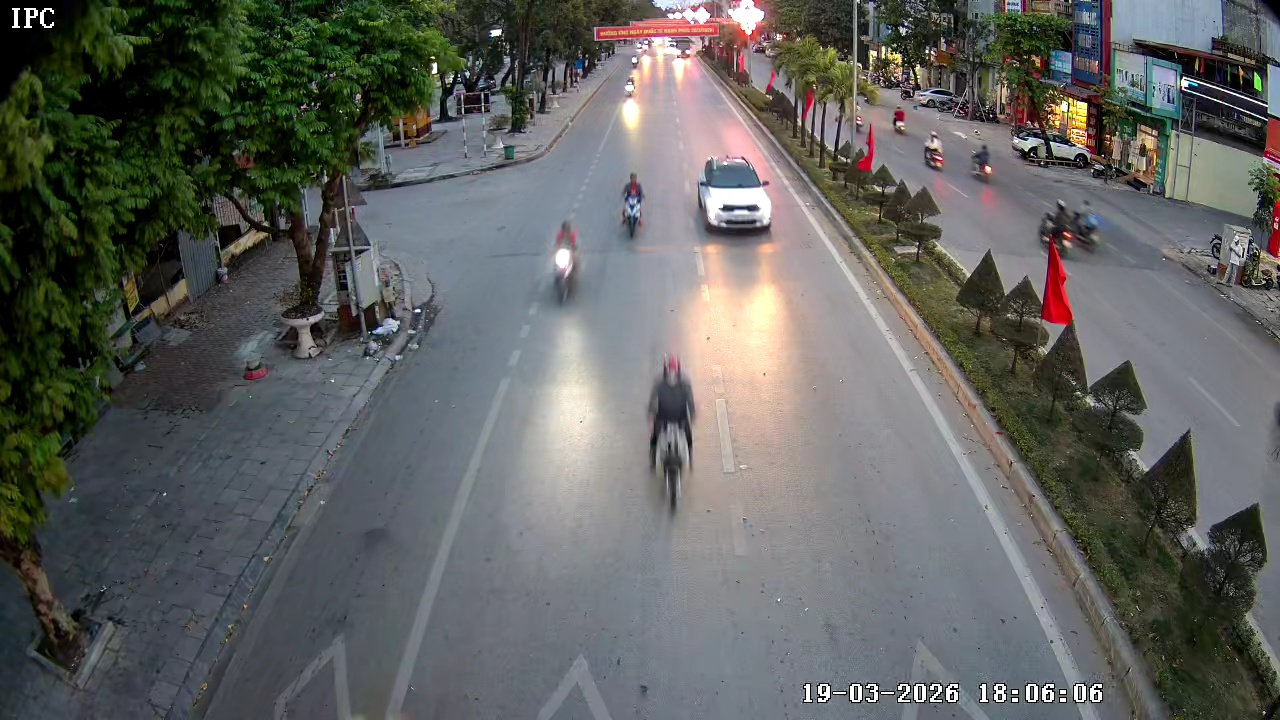car: (695, 156, 773, 235)
motorbike: (648, 352, 703, 516), (546, 216, 586, 306), (1039, 197, 1101, 255), (617, 169, 648, 241)
